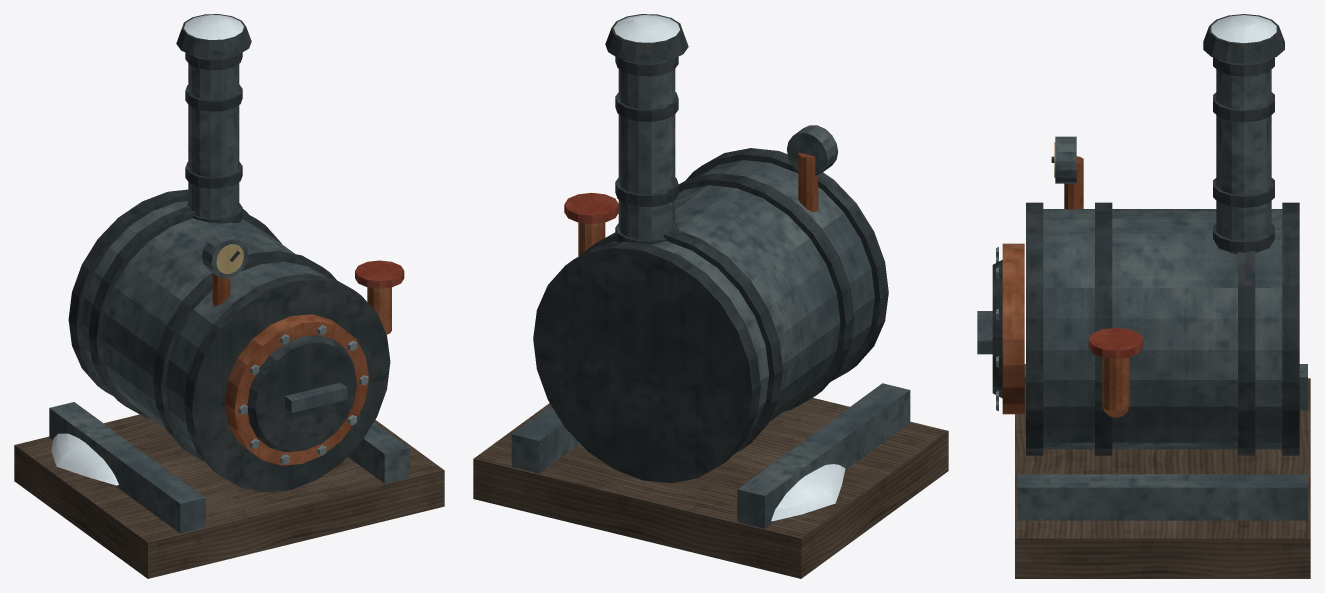
Rendered from 03_Field_Boiler.obj.
3 renders of one model, left to right at view 1: azimuth 30°, elevation 25°; view 2: azimuth 150°, elevation 25°; view 3: azimuth 270°, elevation 25°, orthographic. The views are drawn at different scales.
Parts seen in each view (by area): view 1: 03_Field_Boiler; view 2: 03_Field_Boiler; view 3: 03_Field_Boiler.
Part boxes in pixels (x1,y1,x2,y2): 03_Field_Boiler: (14, 14, 444, 578); 03_Field_Boiler: (473, 14, 948, 578); 03_Field_Boiler: (977, 14, 1310, 578).
Size of the model in its own units: 1.55 by 2.19 by 1.35.
8 materials, 8 textured.
